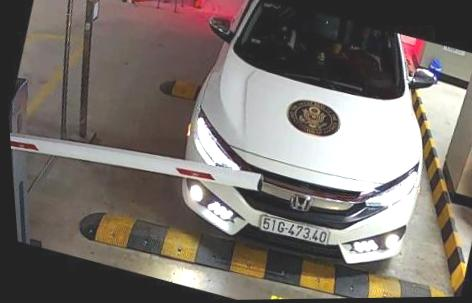License_Plate: (256, 214, 338, 254)
